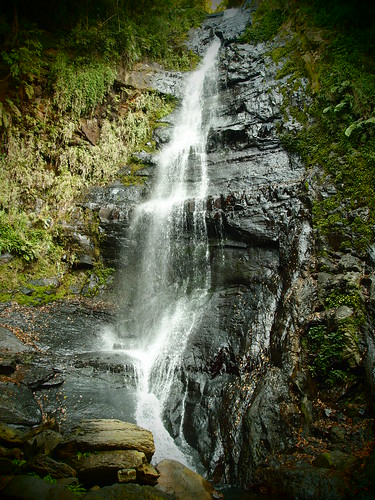wufengciWaterfall: (93, 21, 318, 476)
